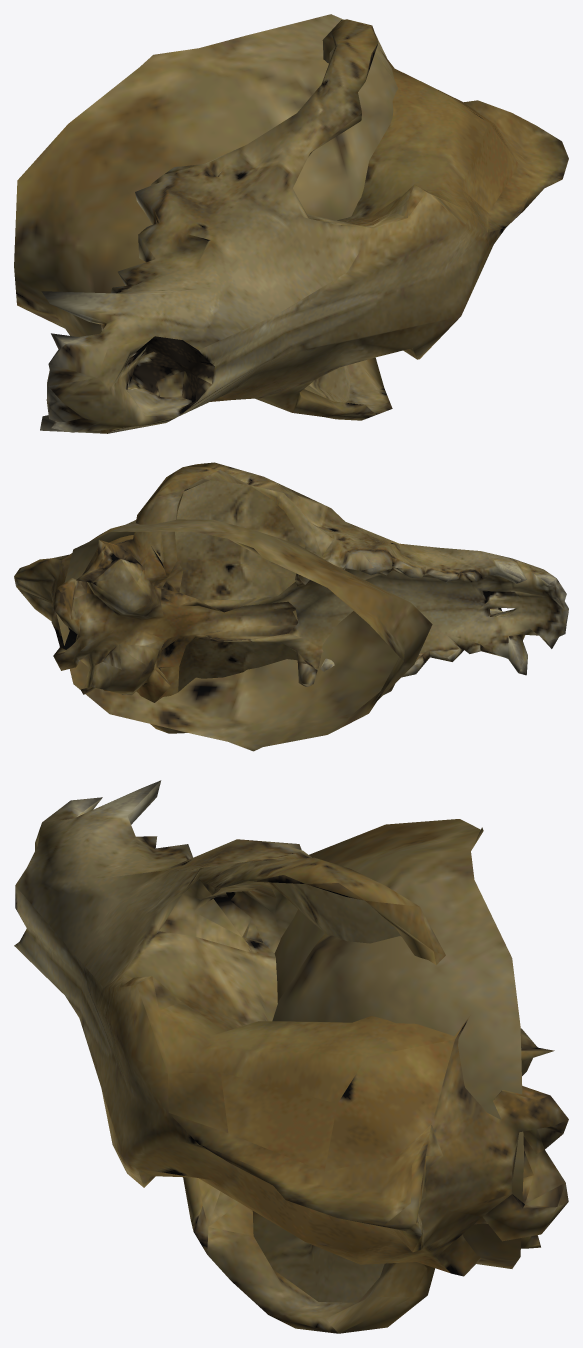
The model's file is M_WolfSkullMask.fbx.
3 renders of one model, top to bottom at view 1: azimuth 30°, elevation 25°; view 2: azimuth 150°, elevation 25°; view 3: azimuth 270°, elevation 25°, orthographic. The views are drawn at different scales.
Visible parts, largest first — view 1: 25_wolf.001; view 2: 25_wolf.001; view 3: 25_wolf.001.
Boxes of the visible parts, bbox=[...] form: 25_wolf.001: bbox=[14, 14, 568, 433]; 25_wolf.001: bbox=[14, 462, 568, 751]; 25_wolf.001: bbox=[14, 780, 568, 1333].
Bounding box in the file's own units: 0.2538 × 0.1402 × 0.1559.
